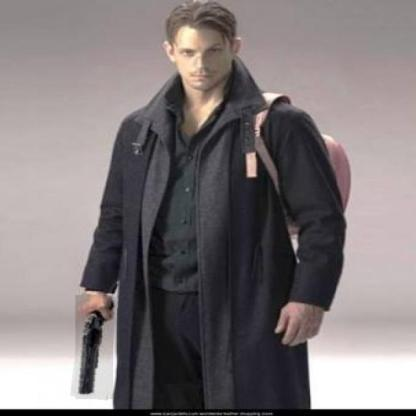handgun: (72, 294, 116, 400)
